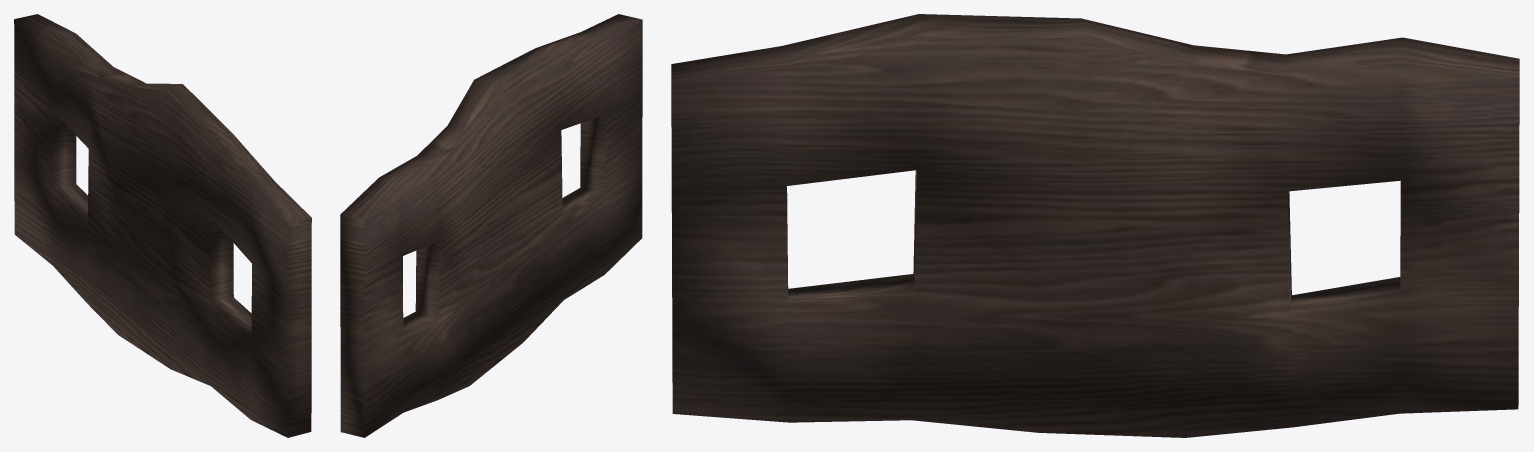
The picture shows the model from 3 angles, left to right: view 1: azimuth 30°, elevation 25°; view 2: azimuth 150°, elevation 25°; view 3: azimuth 270°, elevation 25°; orthographic projection. The views are drawn at different scales.
Parts seen in each view (by area): view 1: Cube152_Wood_10001_0; view 2: Cube152_Wood_10001_0; view 3: Cube152_Wood_10001_0.
Boxes of the visible parts, x1,y1,x2,y2 form: Cube152_Wood_10001_0: [14, 14, 311, 437]; Cube152_Wood_10001_0: [340, 14, 642, 437]; Cube152_Wood_10001_0: [671, 14, 1519, 437].
Bounding box in the file's own units: 0.1026 × 0.8717 × 1.61.
Materials: 1 (1 with a texture image).
